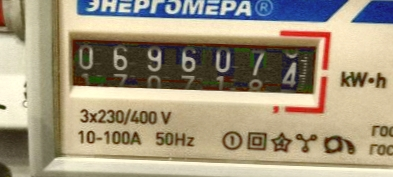0: (74, 40, 94, 69), (210, 44, 230, 71)
4: (277, 58, 296, 87)
6: (177, 42, 196, 71), (108, 42, 127, 70)
7: (244, 45, 265, 76)
9: (142, 43, 161, 72)
screen: (51, 16, 333, 113)
